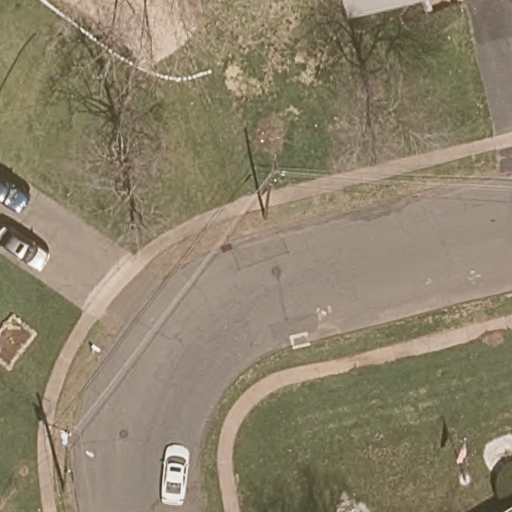DT: (259, 153, 281, 219), (57, 427, 73, 493)
